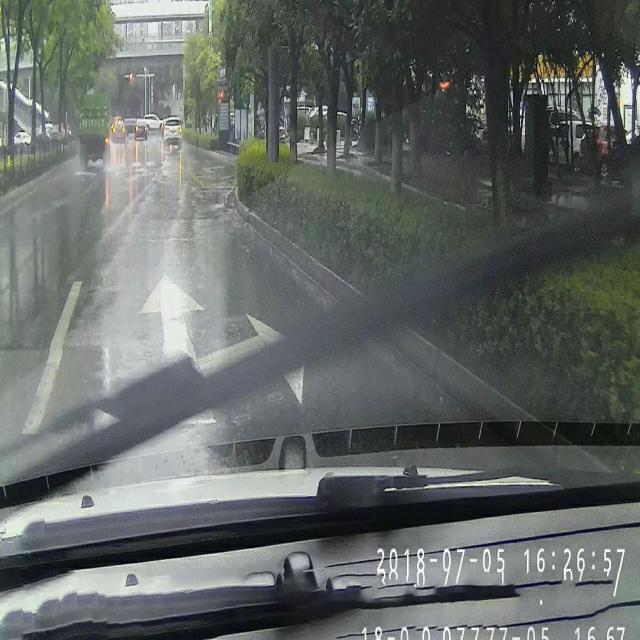car: (161, 115, 183, 148), (110, 116, 126, 140), (134, 122, 148, 142)
